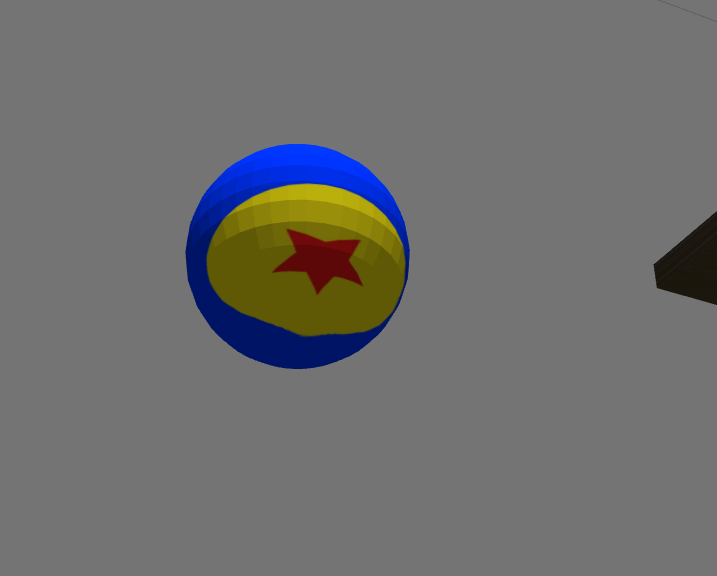toy story ball: (186, 143, 411, 370)
